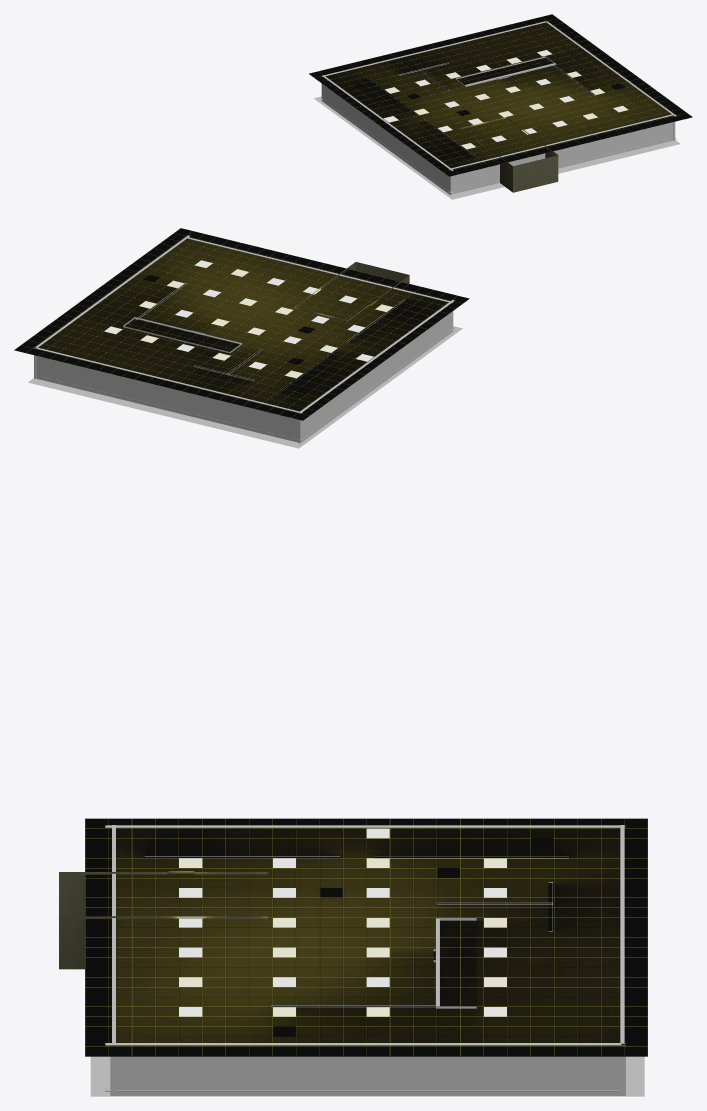
File: map.obj
The picture shows the model from 3 angles, top to bottom: view 1: azimuth 30°, elevation 25°; view 2: azimuth 150°, elevation 25°; view 3: azimuth 270°, elevation 25°; orthographic projection. The views are drawn at different scales.
Parts seen in each view (by area): view 1: Ceiling_Cube.001, BackWall_Double_BR.028_Cube.076, Air_Vent.005_Cube.087, Piece1_Cube.035, Carpet_v1.001_Cube.026, Air_Vent.001_Cube.002, Air_Vent.002_Cube.004; view 2: Ceiling_Cube.001, BackWall_Double_BR.028_Cube.076, Air_Vent.005_Cube.087, Carpet_v1.001_Cube.026, Air_Vent.001_Cube.002, Air_Vent.002_Cube.004, Piece1_Cube.035; view 3: Ceiling_Cube.001, BackWall_Double_BR.028_Cube.076, Air_Vent.005_Cube.087, Piece1_Cube.035, Air_Vent.001_Cube.002, Air_Vent.002_Cube.004, Carpet_v1.001_Cube.026.
Boxes of the visible parts, x1=… form: Ceiling_Cube.001: x1=309, y1=14, x2=692, y2=176; BackWall_Double_BR.028_Cube.076: x1=321, y1=21, x2=676, y2=195; Air_Vent.005_Cube.087: x1=309, y1=15, x2=692, y2=174; Piece1_Cube.035: x1=461, y1=117, x2=558, y2=192; Carpet_v1.001_Cube.026: x1=314, y1=96, x2=680, y2=199; Air_Vent.001_Cube.002: x1=383, y1=50, x2=628, y2=141; Air_Vent.002_Cube.004: x1=385, y1=57, x2=604, y2=149; Ceiling_Cube.001: x1=14, y1=228, x2=469, y2=420; BackWall_Double_BR.028_Cube.076: x1=34, y1=235, x2=454, y2=443; Air_Vent.005_Cube.087: x1=14, y1=228, x2=469, y2=420; Carpet_v1.001_Cube.026: x1=28, y1=326, x2=462, y2=448; Air_Vent.001_Cube.002: x1=104, y1=260, x2=373, y2=369; Air_Vent.002_Cube.004: x1=139, y1=269, x2=392, y2=378; Piece1_Cube.035: x1=294, y1=262, x2=409, y2=321; Ceiling_Cube.001: x1=85, y1=818, x2=647, y2=1056; BackWall_Double_BR.028_Cube.076: x1=105, y1=825, x2=625, y2=1095; Air_Vent.005_Cube.087: x1=85, y1=818, x2=647, y2=1056; Piece1_Cube.035: x1=59, y1=871, x2=267, y2=969; Air_Vent.001_Cube.002: x1=179, y1=828, x2=506, y2=1016; Air_Vent.002_Cube.004: x1=179, y1=858, x2=506, y2=1016; Carpet_v1.001_Cube.026: x1=90, y1=1056, x2=644, y2=1096.
Size of the model in its own units: 249 by 11.5 by 114.
